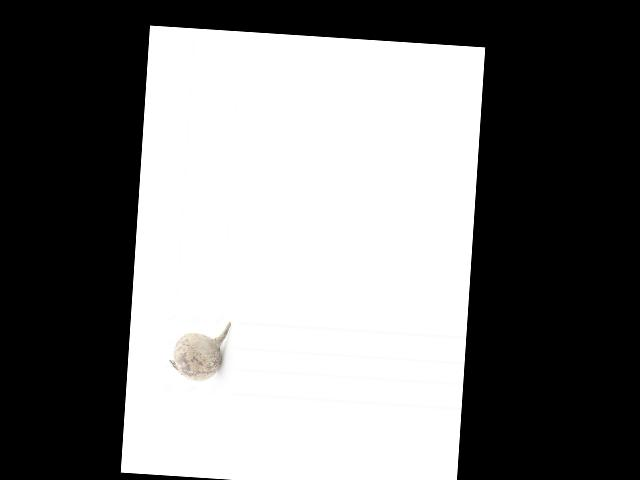beet: (168, 318, 230, 383)
